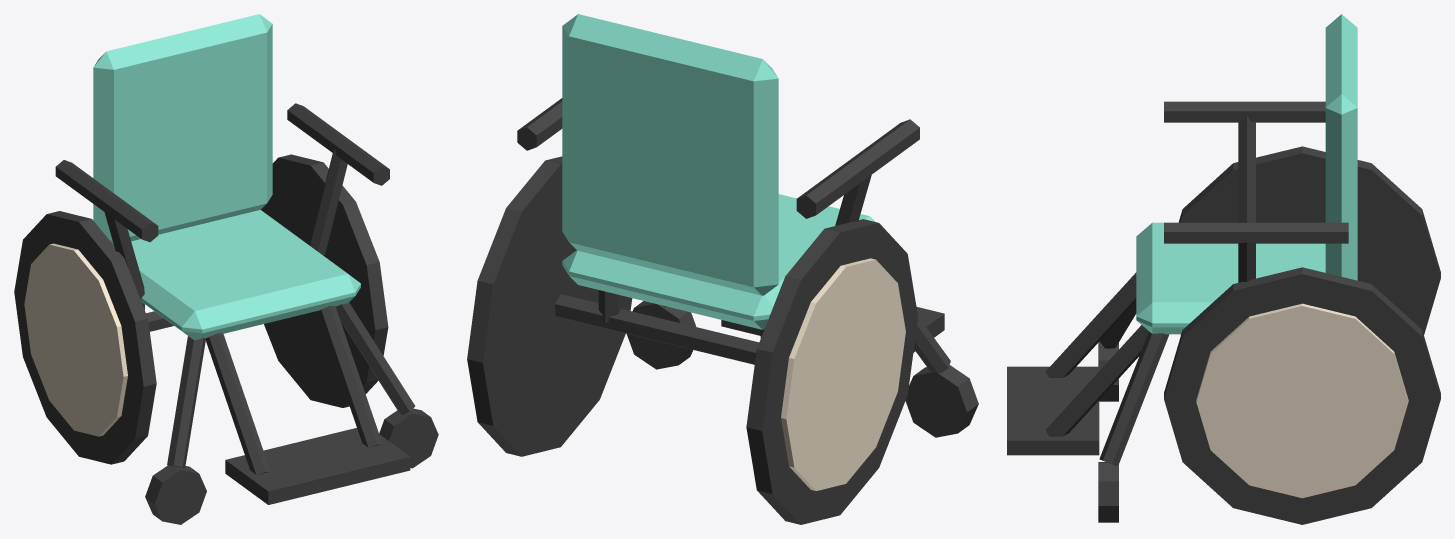
3 views of the same model, side by side, from view 1: azimuth 30°, elevation 25°; view 2: azimuth 150°, elevation 25°; view 3: azimuth 270°, elevation 25° (orthographic). The views are drawn at different scales.
Visible parts, largest first — view 1: Backrest, Seat, Push rim, Rear wheel.001, Rear wheel, Footplate, Footplate support, Footplate support.001, Wheel, Armrest, Armrest.001, Caster fork (+4 smaller); view 2: Backrest, Rear wheel.001, Push rim, Rear wheel, Seat, Rear axle, Wheel, Armrest, Wheel.001, Armrest.001, Caster fork, Arm support (+2 smaller); view 3: Push rim.001, Rear wheel.001, Rear wheel, Seat, Backrest, Footplate, Armrest.001, Armrest, Caster fork.001, Footplate support.001, Footplate support, Arm support (+4 smaller).
Part boxes in pixels (x1=…): Backrest: x1=93, y1=14, x2=272, y2=244; Seat: x1=131, y1=210, x2=360, y2=340; Push rim: x1=24, y1=243, x2=127, y2=436; Rear wheel.001: x1=261, y1=154, x2=388, y2=407; Rear wheel: x1=14, y1=211, x2=156, y2=464; Footplate: x1=225, y1=428, x2=410, y2=504; Footplate support: x1=206, y1=333, x2=270, y2=474; Footplate support.001: x1=317, y1=306, x2=382, y2=447; Wheel: x1=145, y1=465, x2=206, y2=524; Armrest: x1=55, y1=160, x2=158, y2=242; Armrest.001: x1=287, y1=103, x2=389, y2=185; Caster fork: x1=167, y1=336, x2=205, y2=468; Backrest: x1=562, y1=14, x2=778, y2=295; Rear wheel.001: x1=467, y1=156, x2=632, y2=456; Push rim: x1=781, y1=258, x2=905, y2=490; Rear wheel: x1=746, y1=219, x2=917, y2=524; Seat: x1=562, y1=194, x2=874, y2=329; Rear axle: x1=555, y1=294, x2=759, y2=364; Wheel: x1=905, y1=365, x2=978, y2=437; Armrest: x1=796, y1=119, x2=919, y2=218; Wheel.001: x1=627, y1=301, x2=696, y2=369; Armrest.001: x1=517, y1=98, x2=562, y2=150; Caster fork: x1=914, y1=316, x2=950, y2=373; Arm support: x1=835, y1=175, x2=871, y2=225; Push rim.001: x1=1196, y1=303, x2=1408, y2=498; Rear wheel.001: x1=1164, y1=267, x2=1440, y2=524; Rear wheel: x1=1178, y1=146, x2=1440, y2=335; Seat: x1=1136, y1=222, x2=1325, y2=334; Backrest: x1=1325, y1=14, x2=1357, y2=280; Footplate: x1=1007, y1=366, x2=1099, y2=455; Armrest.001: x1=1164, y1=222, x2=1348, y2=243; Armrest: x1=1164, y1=101, x2=1325, y2=122; Caster fork.001: x1=1099, y1=331, x2=1169, y2=465; Footplate support.001: x1=1045, y1=325, x2=1148, y2=436; Footplate support: x1=1045, y1=272, x2=1136, y2=377; Arm support: x1=1238, y1=115, x2=1255, y2=222.
Bounding box in the file's own units: 0.76 × 0.9737 × 0.94.
Materials: 1 (1 with a texture image).
